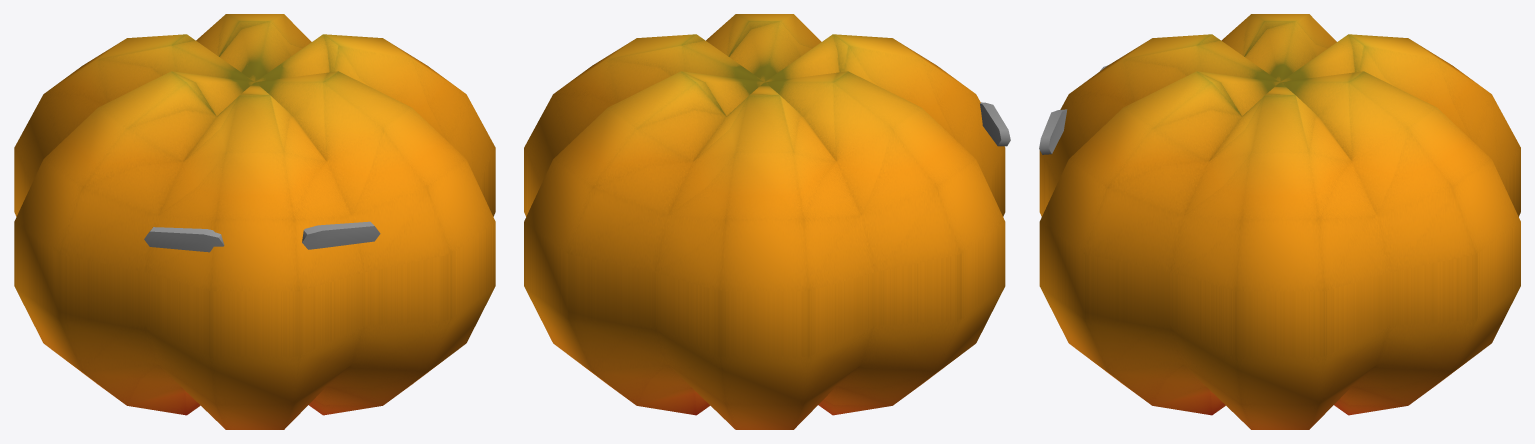
File: PumpkinHead.FBX
The picture shows the model from 3 angles, left to right: view 1: azimuth 30°, elevation 25°; view 2: azimuth 150°, elevation 25°; view 3: azimuth 270°, elevation 25°; orthographic projection.
Parts seen in each view (by area): view 1: Pumpkin; view 2: Pumpkin; view 3: Pumpkin.
Boxes of the visible parts, x1,y1,x2,y2 form: Pumpkin: (14, 14, 495, 429); Pumpkin: (524, 14, 1010, 429); Pumpkin: (1039, 14, 1520, 429).
Size of the model in its own units: 2.38 by 1.74 by 2.28.
